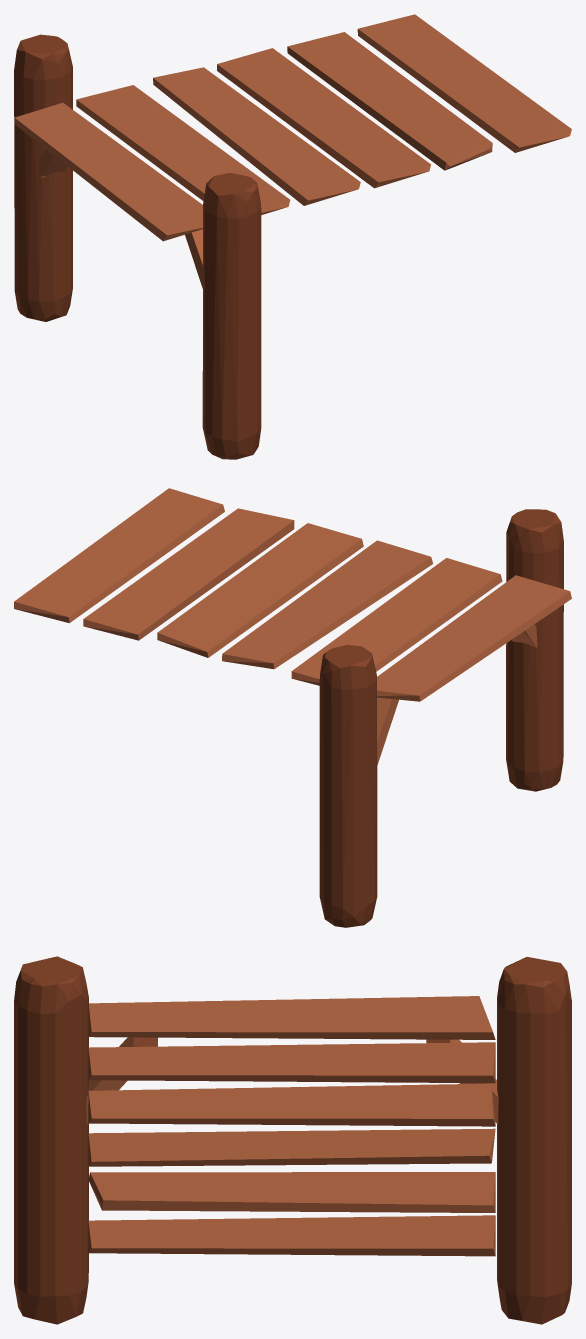
File: sanbashi4.fbx
The picture shows the model from 3 angles, top to bottom: view 1: azimuth 30°, elevation 25°; view 2: azimuth 150°, elevation 25°; view 3: azimuth 270°, elevation 25°; orthographic projection. The views are drawn at different scales.
Parts seen in each view (by area): view 1: 立方体.001; view 2: 立方体.001; view 3: 立方体.001.
Part boxes in pixels (<box>): 立方体.001: <box>14,14,571,459</box>; 立方体.001: <box>14,488,571,927</box>; 立方体.001: <box>14,956,571,1324</box>.
Size of the model in its own units: 479 by 300 by 443.
